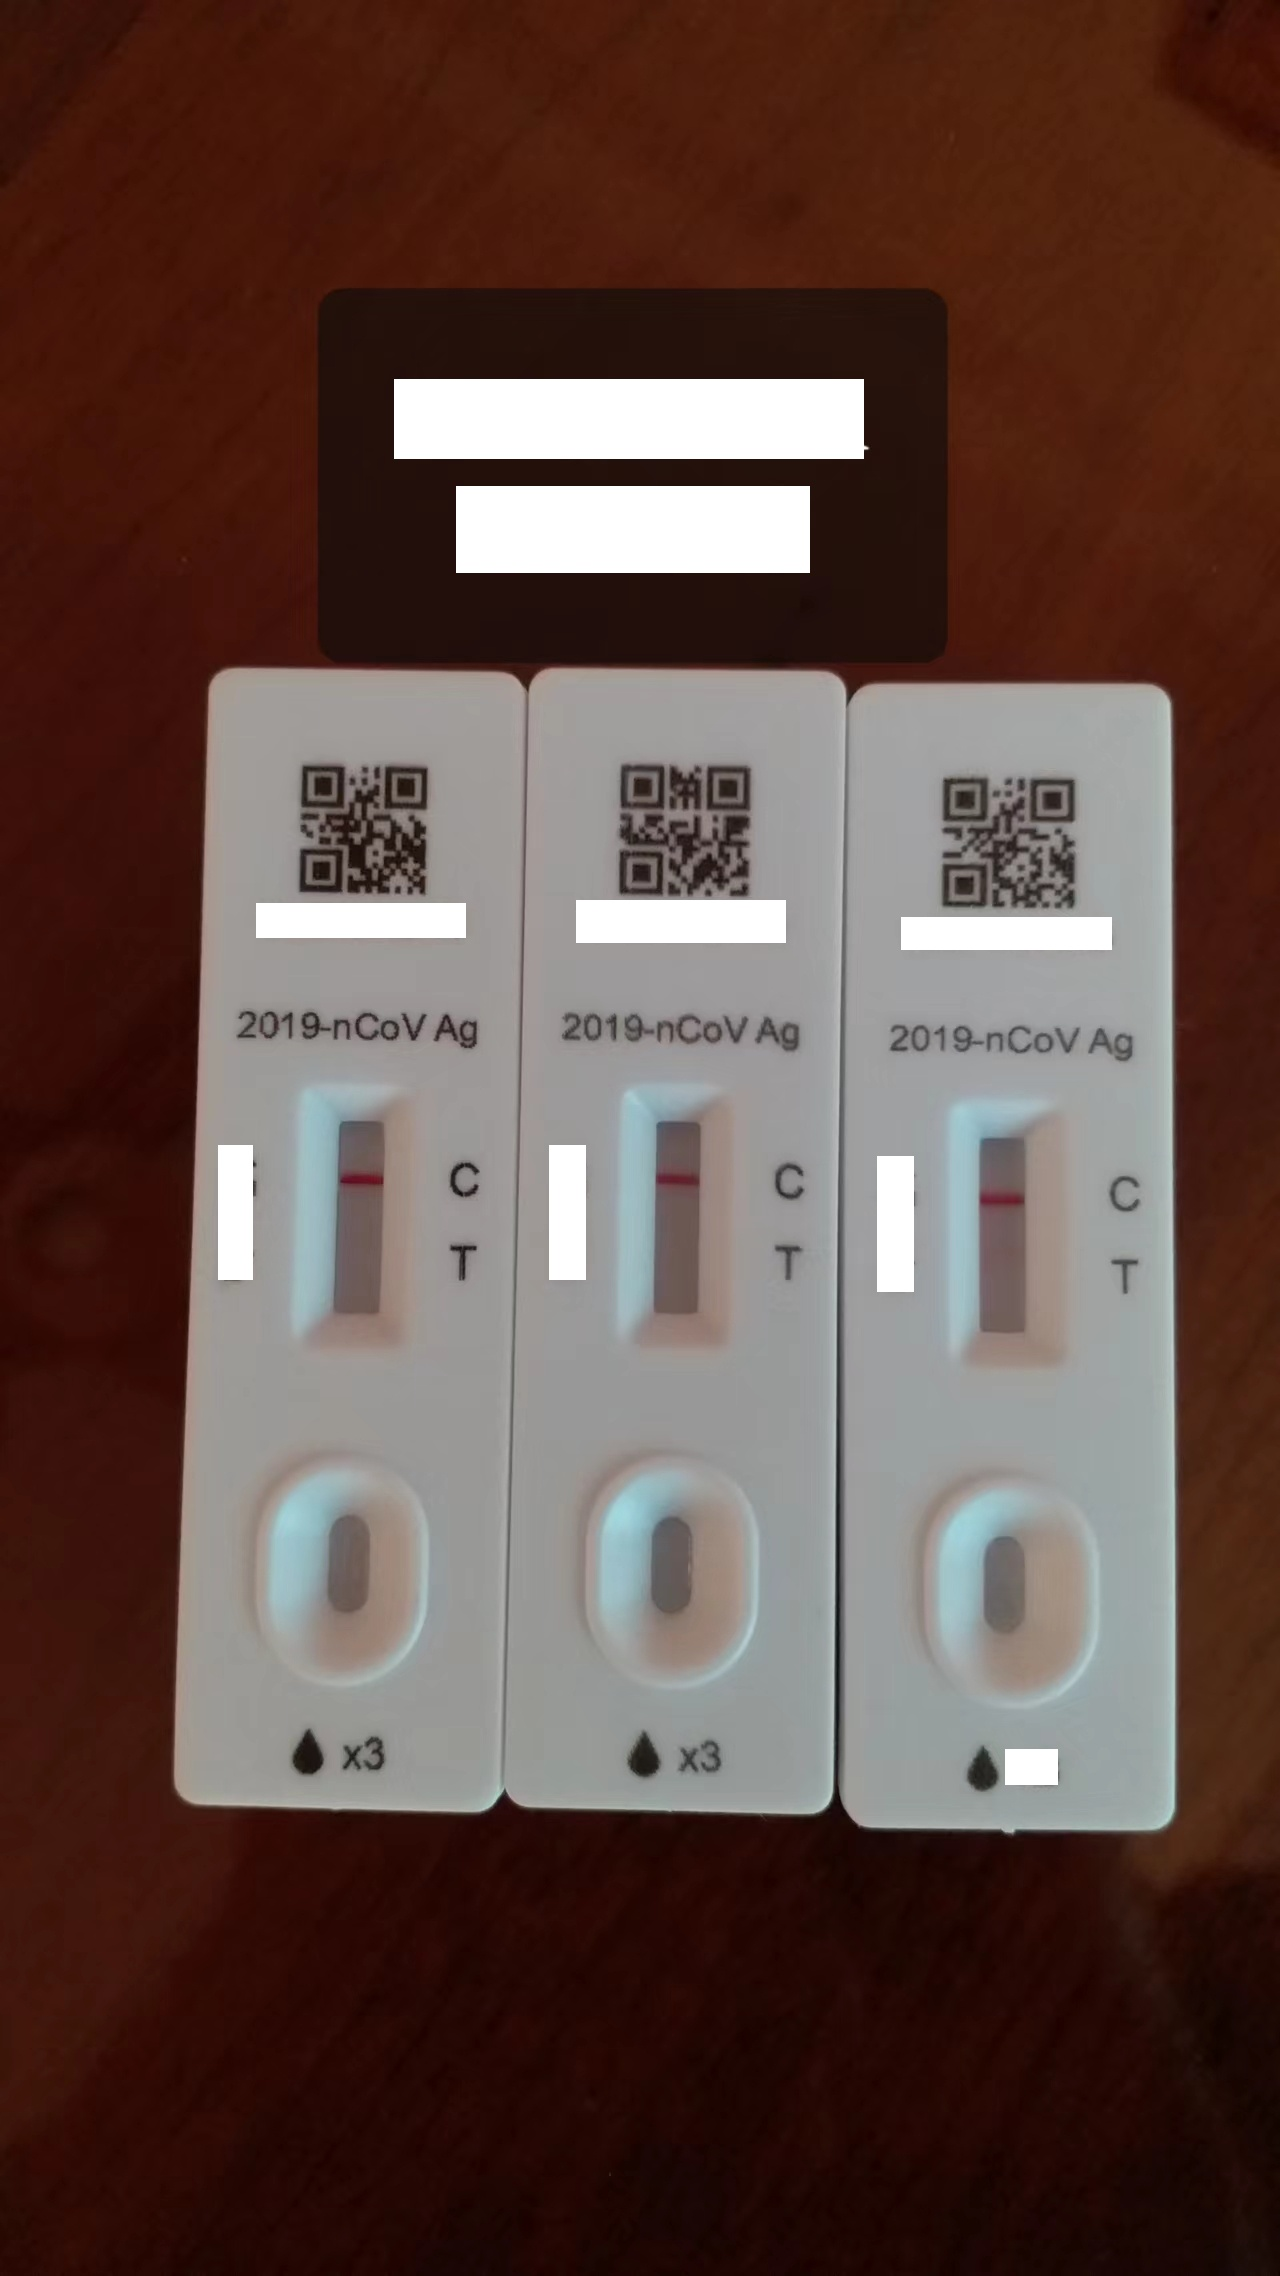negative: (952, 1097, 1074, 1372), (616, 1088, 735, 1347), (297, 1083, 411, 1347)
